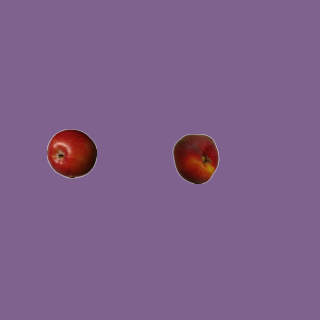Apple Braeburn: (46, 128, 96, 178)
Nectarine Flat: (170, 133, 220, 183)
